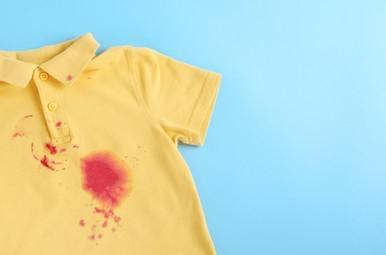gun: (76, 145, 138, 240), (12, 119, 70, 168), (64, 66, 69, 84)
